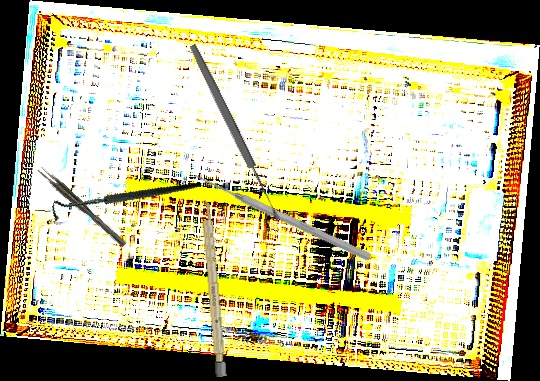Hook Surgical: (47, 139, 202, 263)
Pusher: (190, 169, 373, 263)
Scalpel Handle: (200, 199, 227, 378)
Surgical Spoon: (187, 42, 283, 223)
Tissue Forceps: (36, 164, 127, 250)
